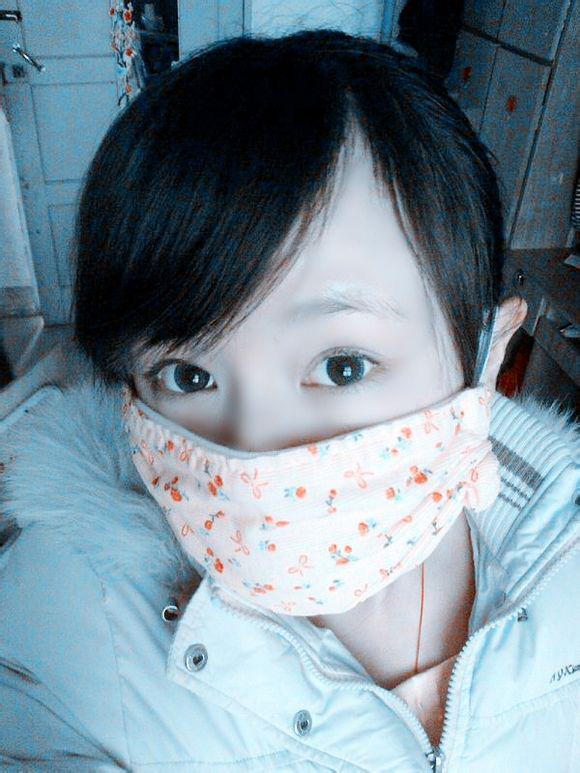OK: (139, 296, 476, 612)
